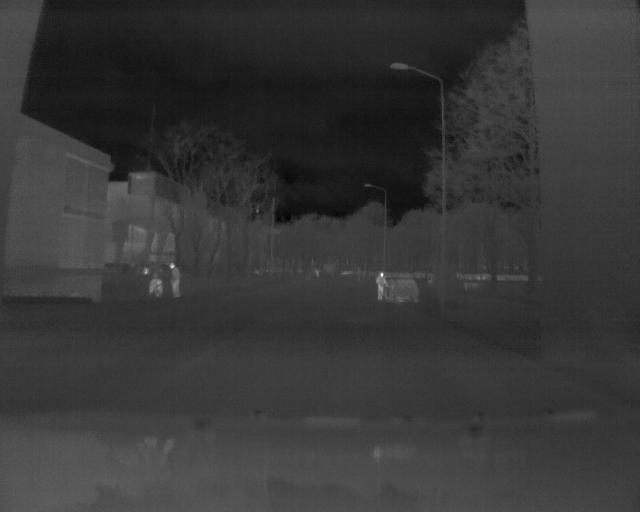car: (390, 275, 419, 307)
person: (140, 262, 166, 300), (166, 260, 186, 299), (372, 269, 386, 302)
